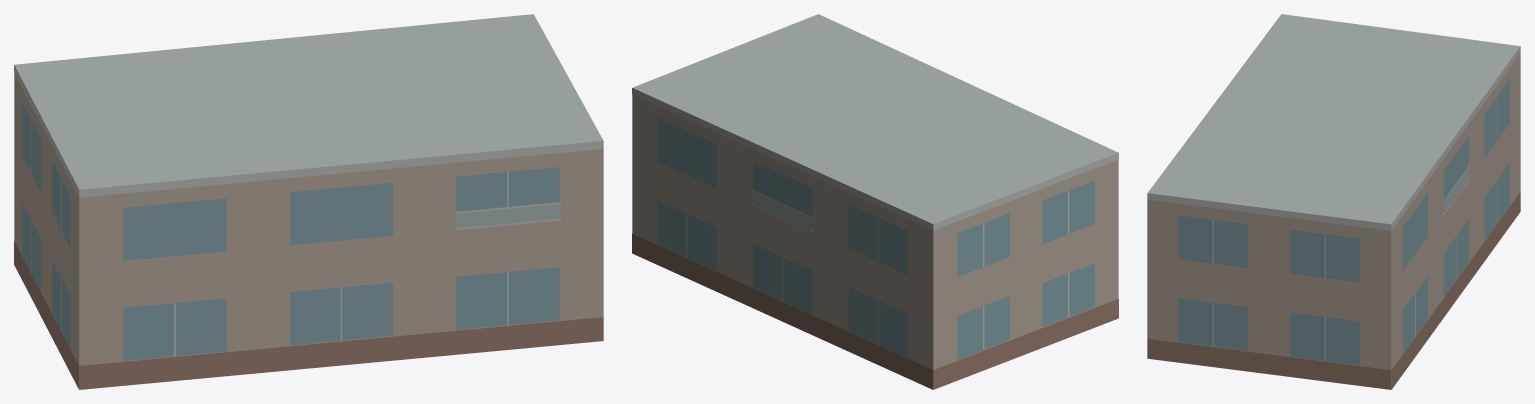
The model's file is survey-upis-32847537.glb.
3 views of the same model, side by side, from view 1: azimuth 30°, elevation 25°; view 2: azimuth 150°, elevation 25°; view 3: azimuth 270°, elevation 25° (orthographic). The views are drawn at different scales.
Visible parts, largest first — view 1: survey-upis-32847537.tmp; view 2: survey-upis-32847537.tmp; view 3: survey-upis-32847537.tmp.
Part boxes in pixels (x1,y1,x2,y2): survey-upis-32847537.tmp: [14, 14, 603, 389]; survey-upis-32847537.tmp: [632, 14, 1118, 389]; survey-upis-32847537.tmp: [1147, 14, 1520, 389].
Size of the model in its own units: 16.63 by 6.1 by 12.47.
